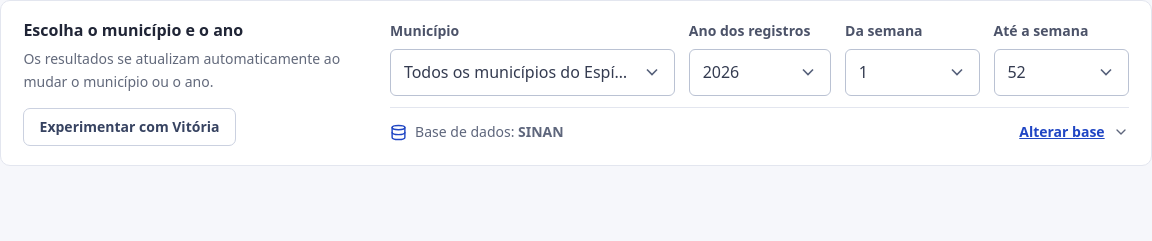
Scenario: filtros do histórico › permite começar por Vitória e voltar ao estado sem perder o ano escolhido
Select "2022" in the dropdown labelled "Ano dos registros". click: (760, 72)
box: 689,49 -> 831,96
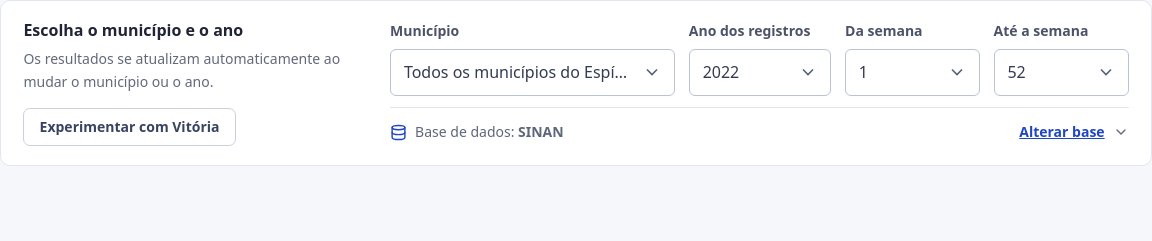
Click the button "Experimentar com Vitória". click: (130, 127)
box: 23,108 -> 236,146
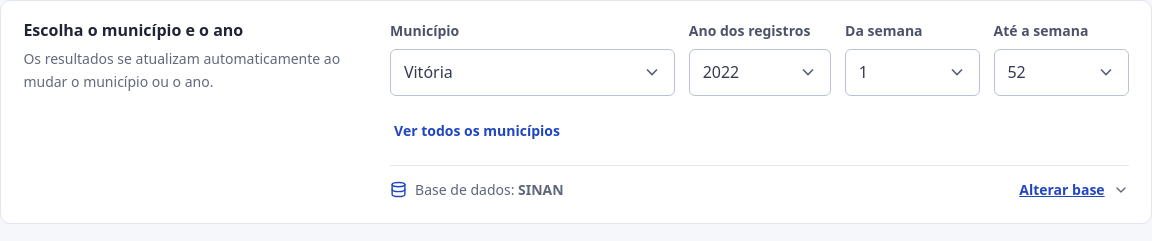
Now the dropdown labelled "Município" shows "Vitória", box 390,49 -> 675,96
Click the button "Ver todos os municípios". click: (477, 131)
box: 390,109 -> 564,153
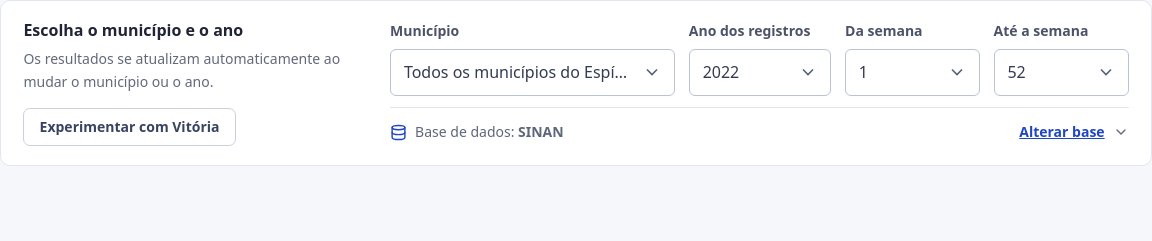
Now the dropdown labelled "Município" shows "Todos os municípios do Espírito Santo", box 390,49 -> 675,96
